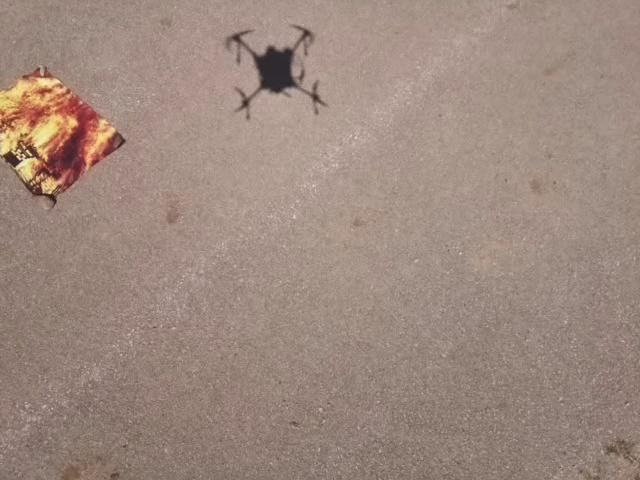fire-poster: (0, 63, 127, 208)
